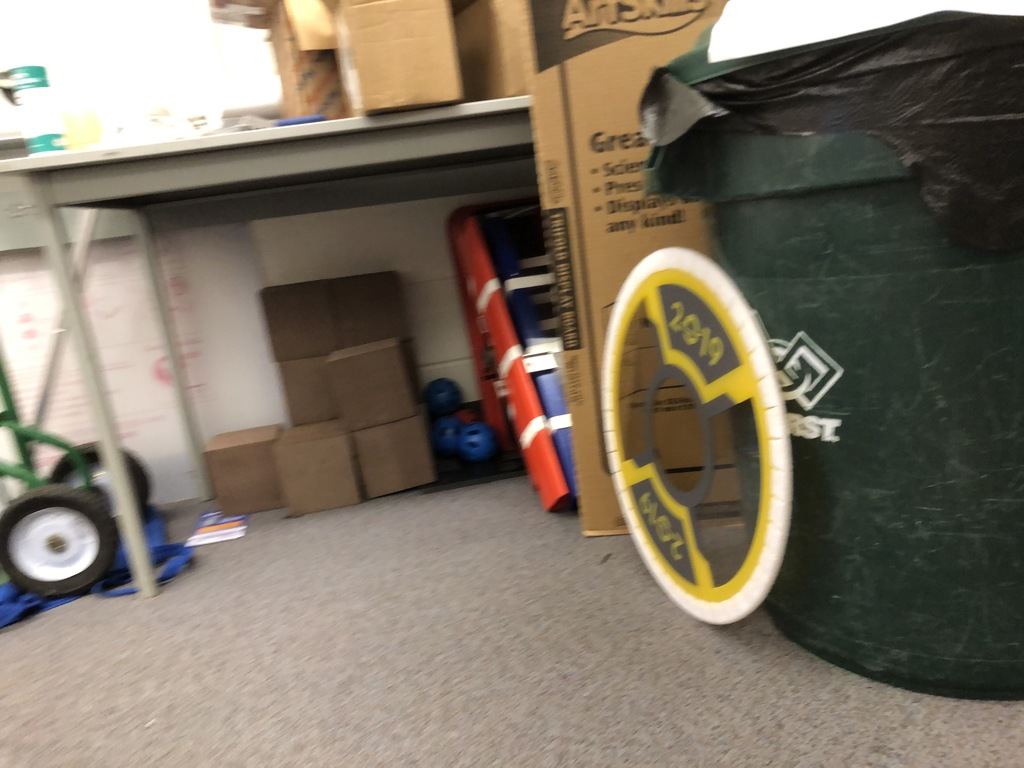hatch_panel: (597, 219, 805, 646)
